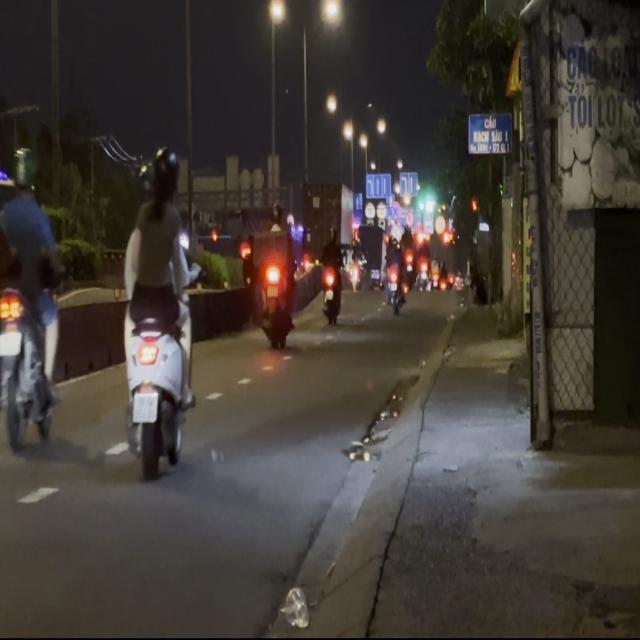helmet: (148, 147, 178, 206), (12, 148, 36, 194)
licenseplate: (116, 145, 198, 478), (0, 143, 62, 452)
nohelmet: (132, 391, 157, 421), (0, 332, 21, 354)
